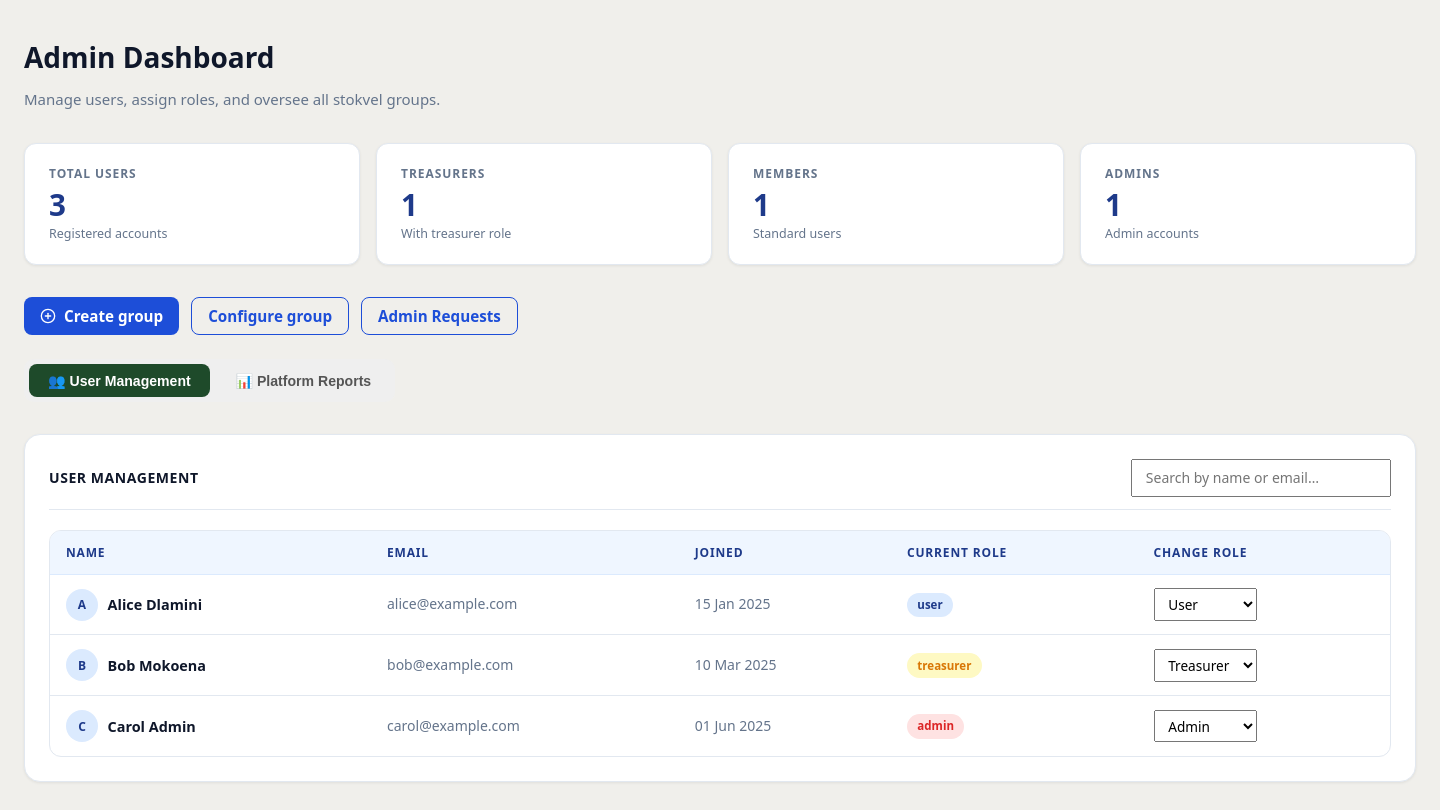
Test: AdminPage › shows no users found message when search has no results
The image size is (1440, 810).
Expected: the text "Alice Dlamini" is shown, [108,595,202,614]
Type "zzznomatch" into the field with placeholder "Search by name or email…" at (1261, 478), box [1131,459,1391,496]
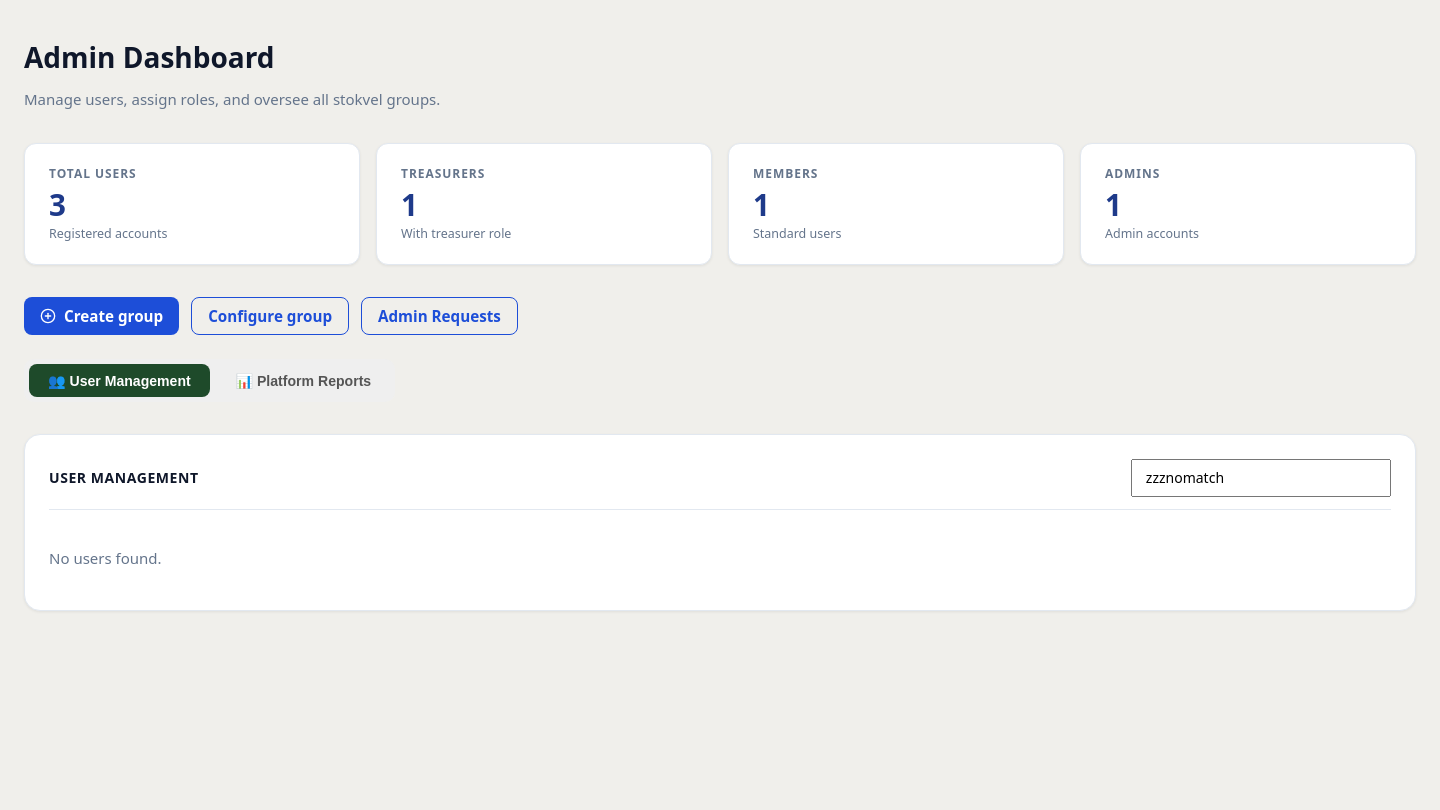
Result: the text "No users found." is shown at [49,548,162,568]
